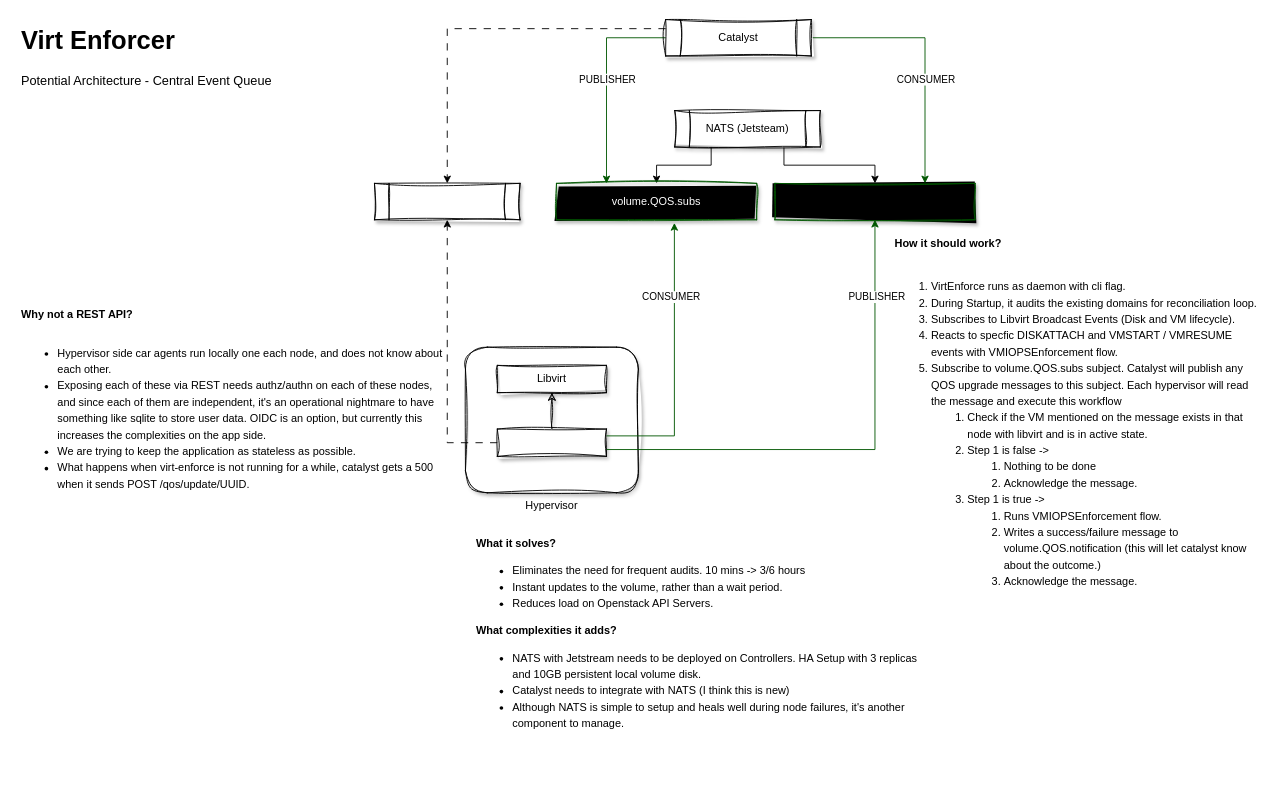
Image size: 1287x806. Some labels were removed from this diagram. The centre of each missing label's shape, as x and y in pixels:
"Openstack API" belongs at [448,202].
"Virt-enforcer" belongs at [552,444].
"volume.QOS.notifications" belongs at [875,202].
